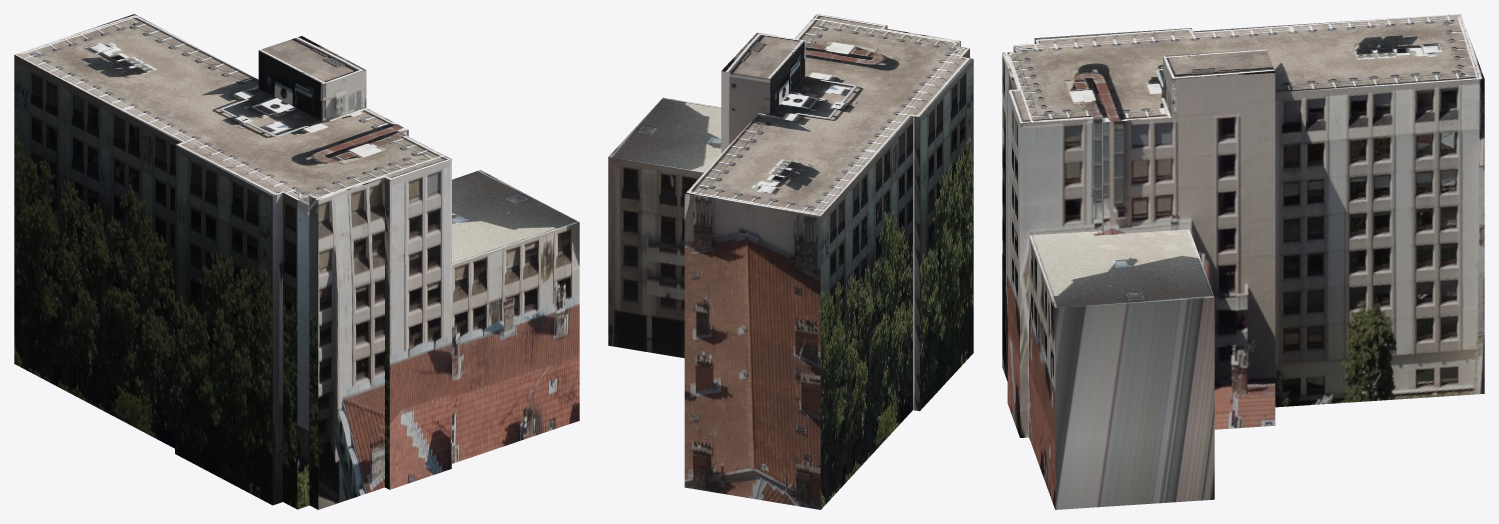
3 renders of one model, left to right at view 1: azimuth 30°, elevation 25°; view 2: azimuth 150°, elevation 25°; view 3: azimuth 270°, elevation 25°, orthographic. The views are drawn at different scales.
Visible parts, largest first — view 1: Z_UP; view 2: Z_UP; view 3: Z_UP.
Boxes of the visible parts, <box> form: Z_UP: <box>14,14,579,509</box>; Z_UP: <box>608,14,973,509</box>; Z_UP: <box>1002,14,1484,509</box>.
Bounding box in the file's own units: 31.92 × 28.98 × 35.87.
Materials: 2 (1 with a texture image).
